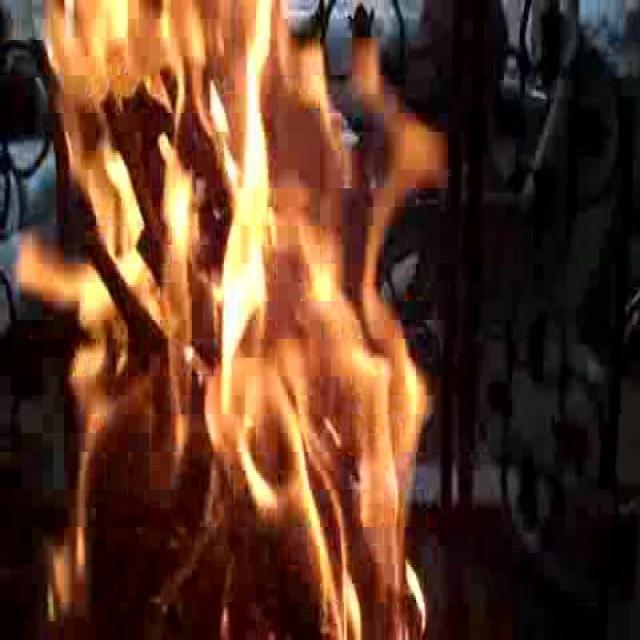Fire: (44, 11, 422, 630)
